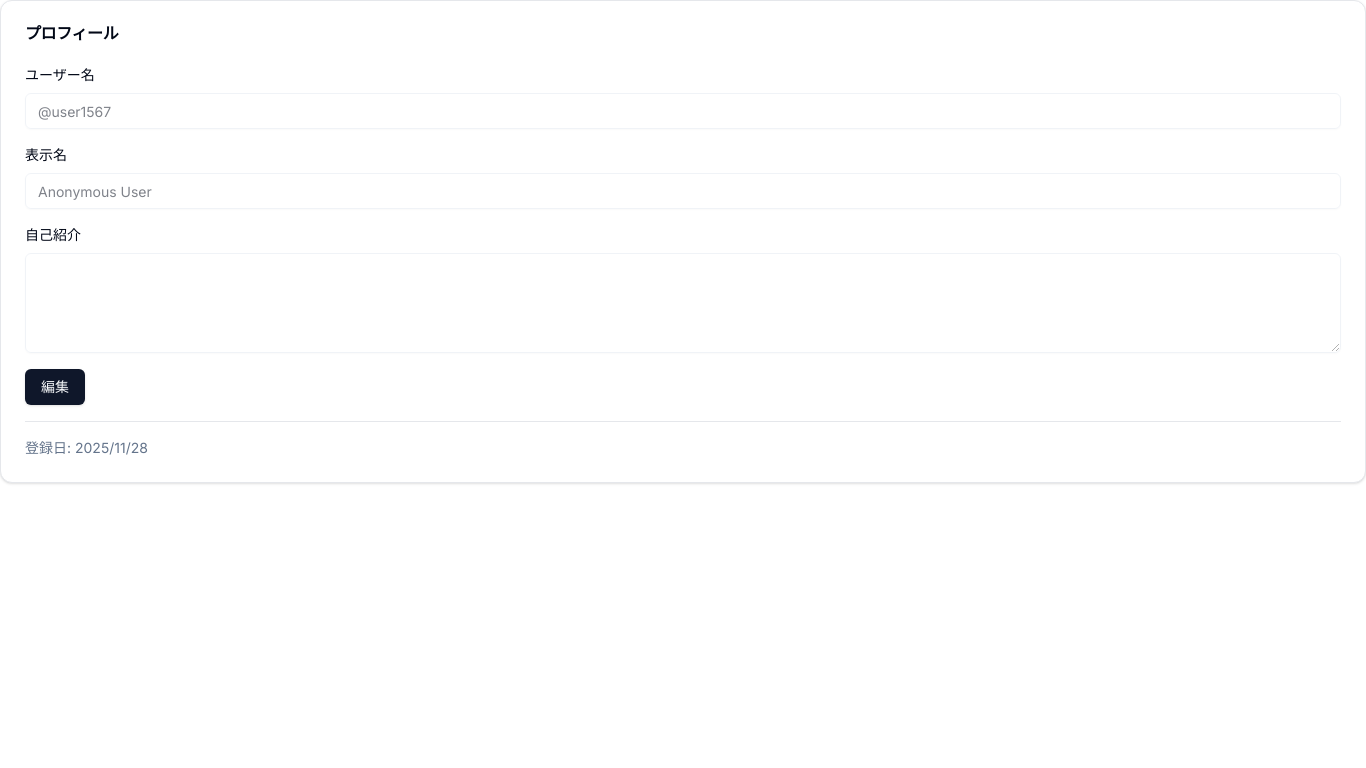
Test: ProfileForm › should enable editing mode
The image size is (1366, 768).
What coordinates should you click on to do the following:
click the button "編集"
I would click on:
 (55, 387)
Its box is [25, 369, 85, 405].
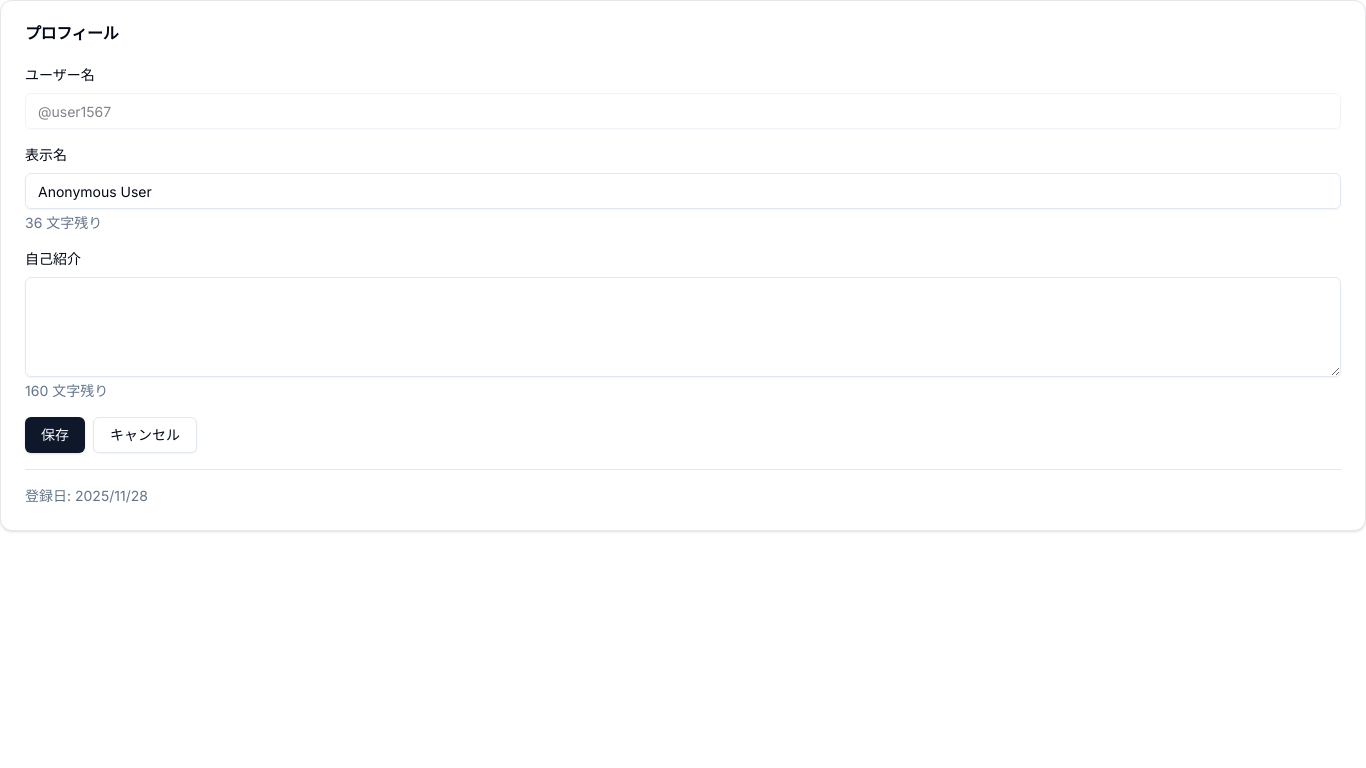
Now the button "保存" is shown, box [25, 417, 85, 453]
Now the button "キャンセル" is shown, box [93, 417, 197, 453]
